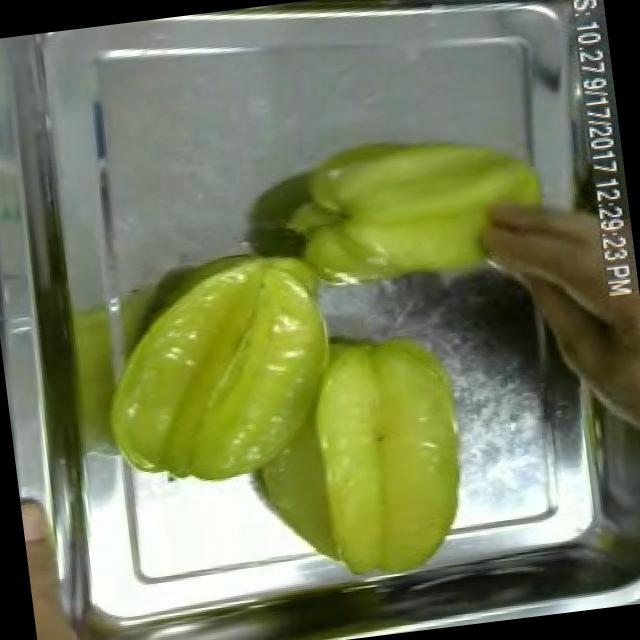fruit: (80, 226, 358, 501), (237, 309, 488, 596), (272, 107, 568, 311), (531, 237, 640, 466), (18, 476, 118, 640)
